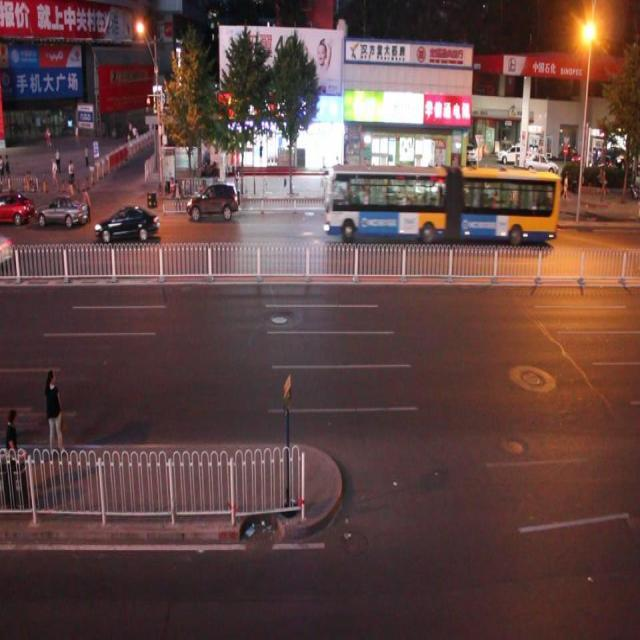BigCar: (328, 160, 561, 245)
car: (96, 203, 158, 251), (39, 191, 88, 232), (188, 183, 240, 220)
